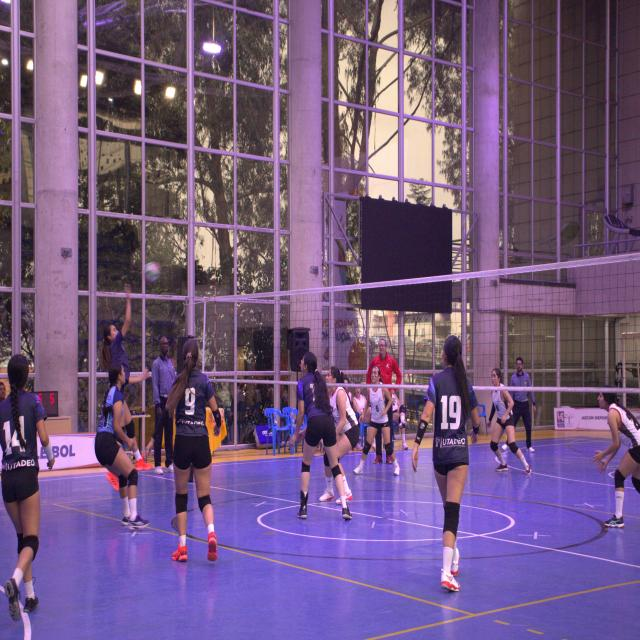volleyball: (145, 260, 160, 282)
